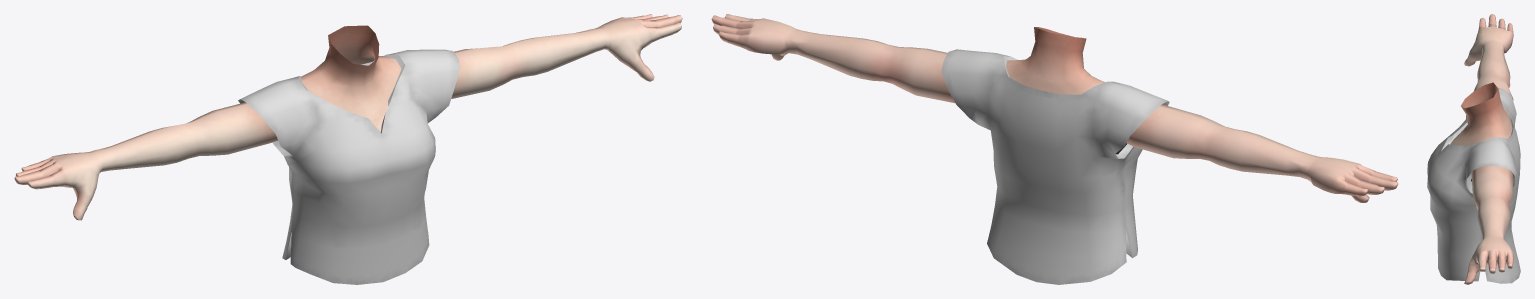
Rendered from tr0810_00_upb01.gltf.
3 renders of one model, left to right at view 1: azimuth 30°, elevation 25°; view 2: azimuth 150°, elevation 25°; view 3: azimuth 270°, elevation 25°, orthographic. The views are drawn at different scales.
Visible parts, largest first — view 1: upb01_upperbody_mesh_shape:upperbody01, upb01_upperskin_mesh_shape:upperbody01_skin; view 2: upb01_upperbody_mesh_shape:upperbody01, upb01_upperskin_mesh_shape:upperbody01_skin; view 3: upb01_upperbody_mesh_shape:upperbody01, upb01_upperskin_mesh_shape:upperbody01_skin.
Part boxes in pixels (<box>): upb01_upperbody_mesh_shape:upperbody01: <box>238,49,459,284</box>; upb01_upperskin_mesh_shape:upperbody01_skin: <box>14,14,682,220</box>; upb01_upperbody_mesh_shape:upperbody01: <box>941,49,1169,284</box>; upb01_upperskin_mesh_shape:upperbody01_skin: <box>711,14,1398,202</box>; upb01_upperbody_mesh_shape:upperbody01: <box>1427,87,1520,283</box>; upb01_upperskin_mesh_shape:upperbody01_skin: <box>1450,14,1513,284</box>.
Size of what is drawn, in the model's own units: 1.63 by 0.5428 by 0.2529.
2 materials, 2 textured.
